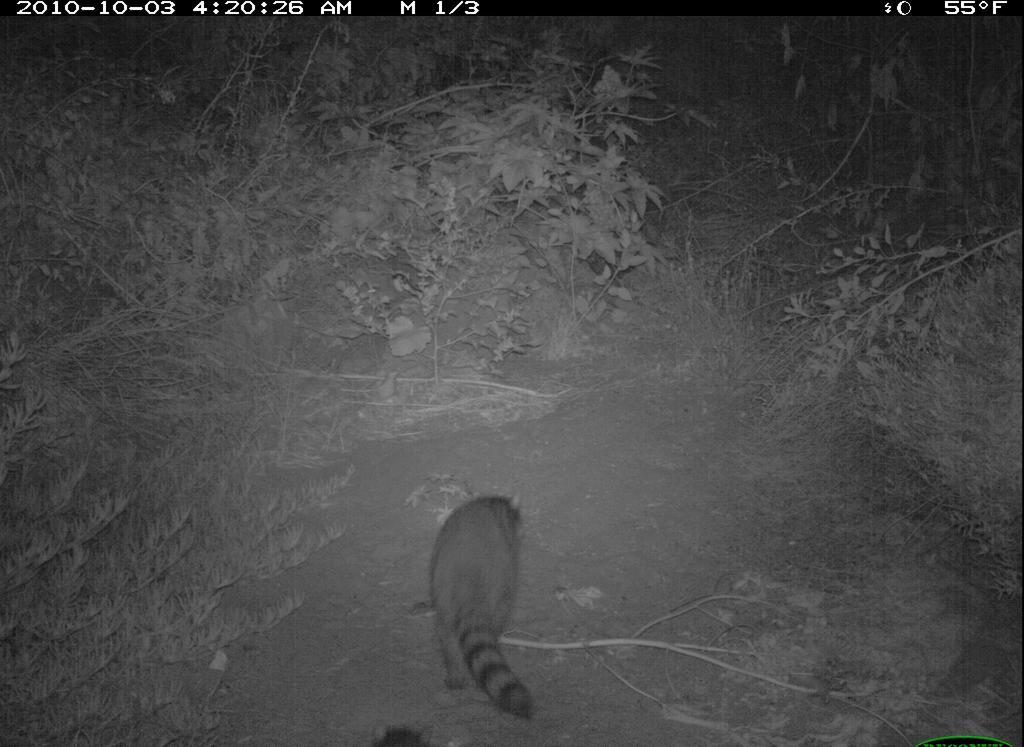raccoon: (427, 487, 561, 725)
